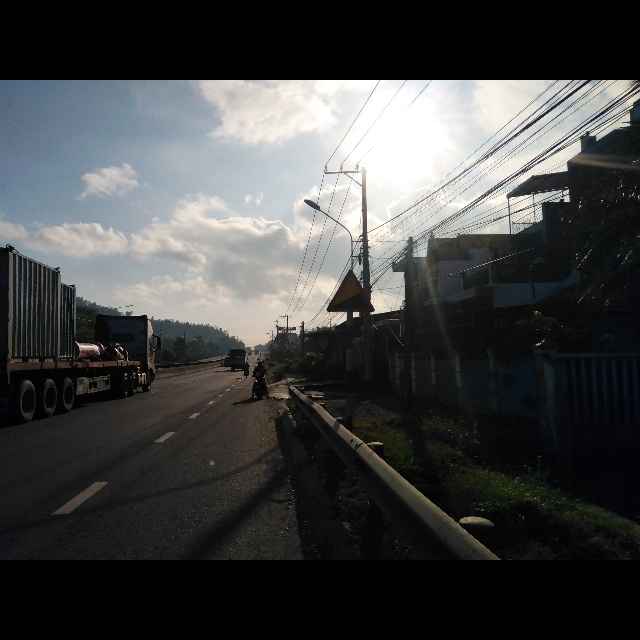Dốc lên nguy hiểm: (323, 268, 376, 314)
